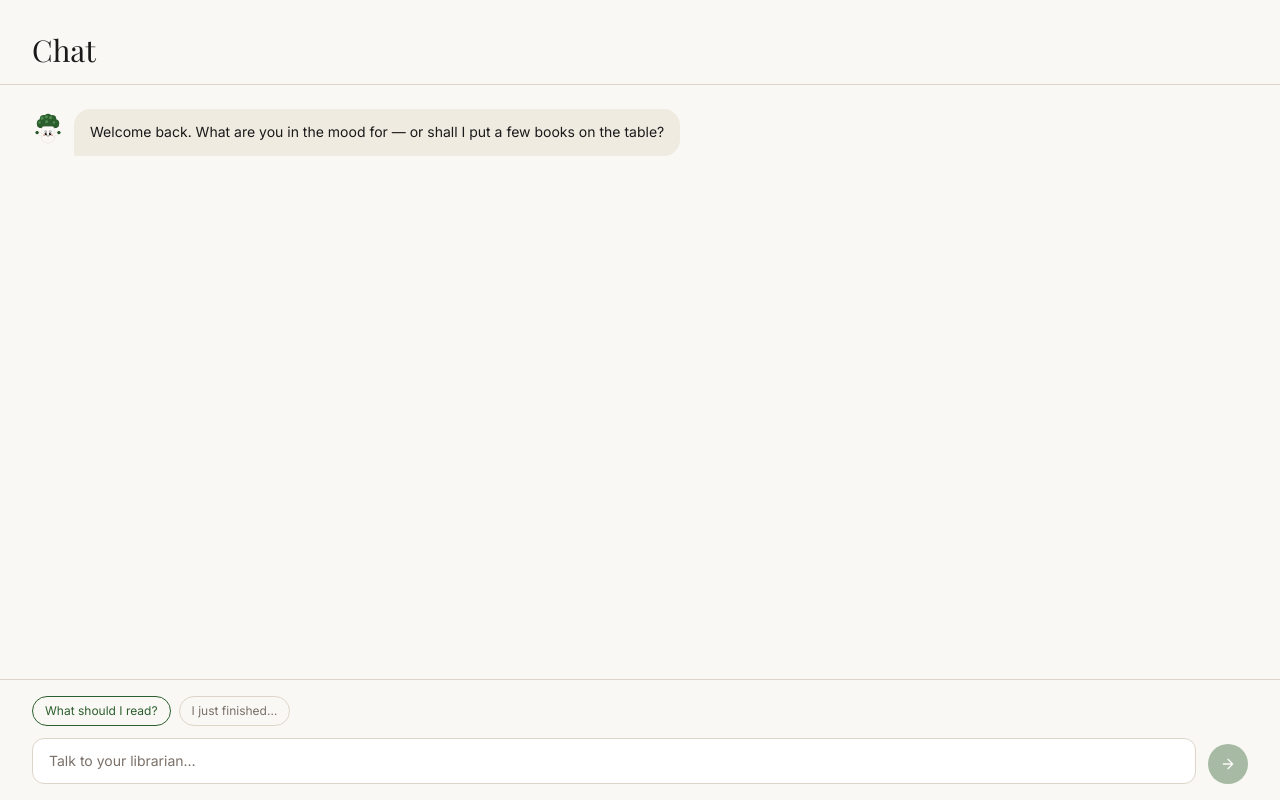
Librarian (Chat) › renders the slate cards a turn puts on the table
Type "what should I read" into the text box with placeholder "Talk to your librarian…" at (614, 761), box [32,738,1196,784]
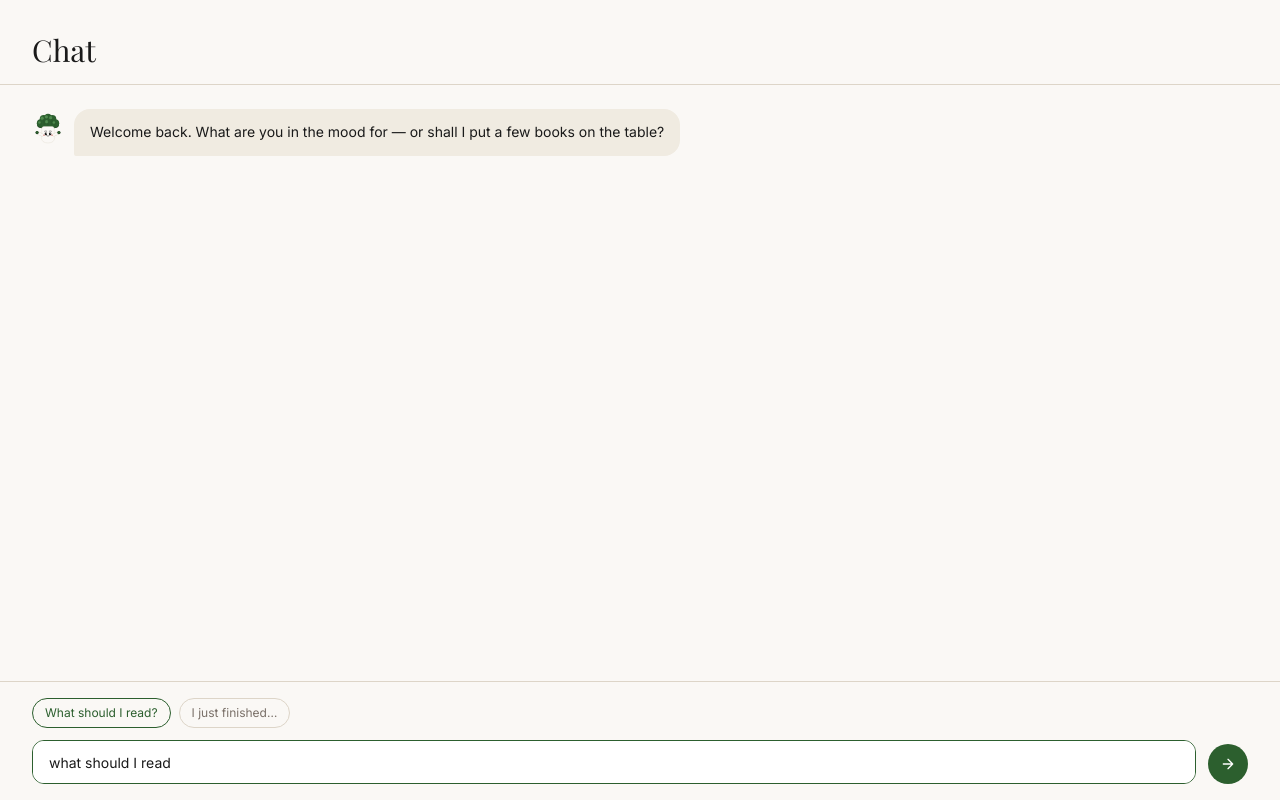
Click the button named "Send" at (1228, 764), box [1208,744,1248,784]
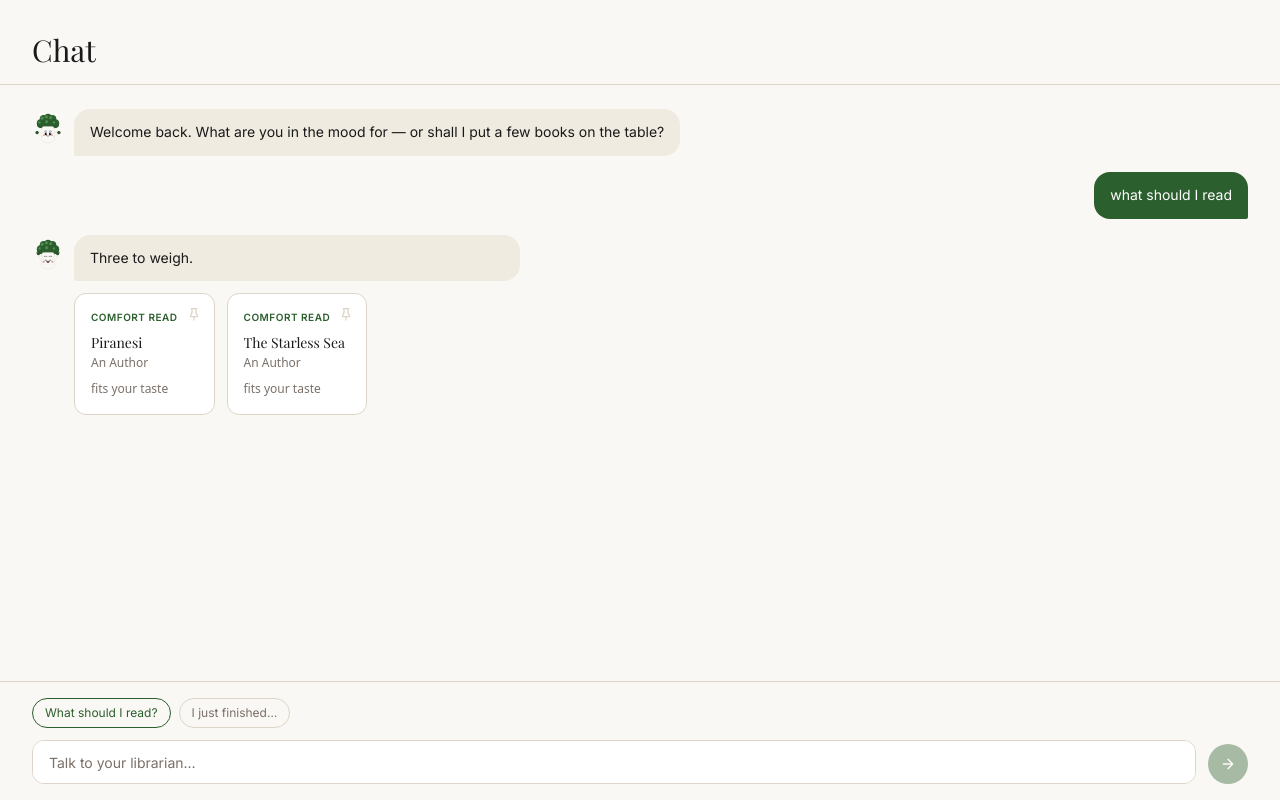
Check: the text "Piranesi" is shown, box [91,333,142,352]
Check: the text "The Starless Sea" is shown, box [244,333,350,353]
